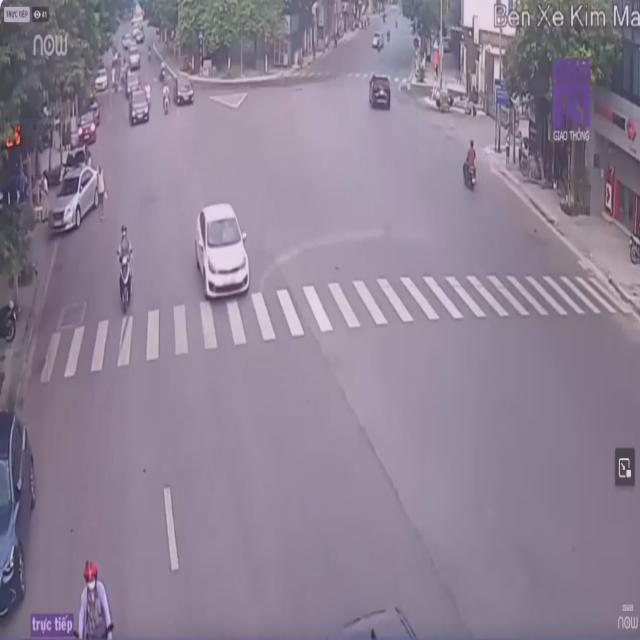car: (0, 409, 39, 624), (194, 198, 252, 300), (50, 168, 97, 232), (368, 72, 391, 110)
motorbike: (61, 560, 118, 638), (116, 222, 138, 312), (462, 142, 479, 194)
